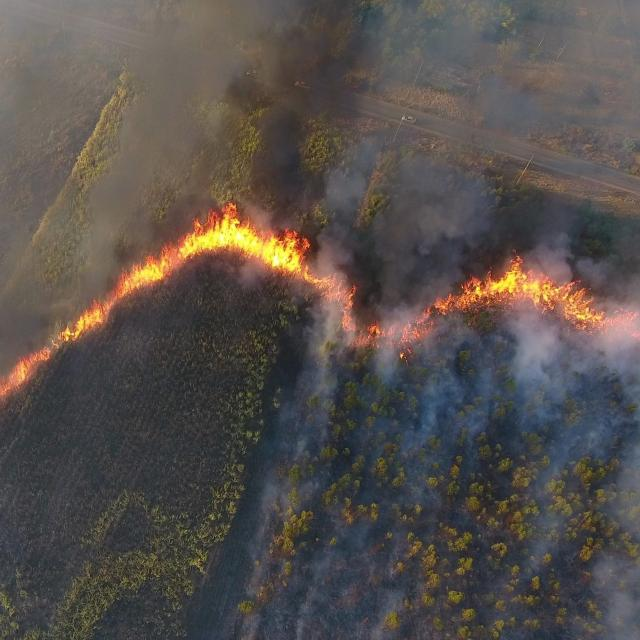Fire: (3, 215, 640, 400)
Smoke: (508, 319, 622, 395)
